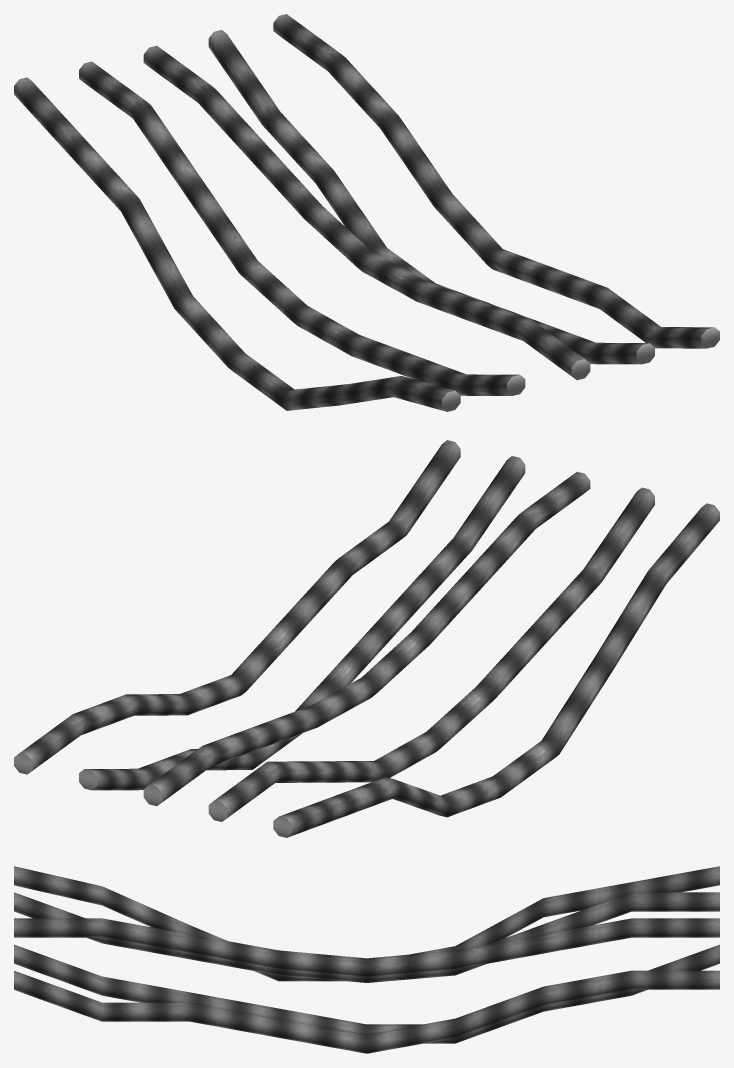
Rendered from cable2.obj.
3 renders of one model, top to bottom at view 1: azimuth 30°, elevation 25°; view 2: azimuth 150°, elevation 25°; view 3: azimuth 270°, elevation 25°, orthographic. The views are drawn at different scales.
Parts seen in each view (by area): view 1: cable2; view 2: cable2; view 3: cable2.
Part boxes in pixels (x1,y1,x2,y2): cable2: (14,14,719,411); cable2: (14,440,719,837); cable2: (14,866,719,1053).
Size of the model in its own units: 1.5 by 0.7003 by 4.
1 material, 1 textured.
